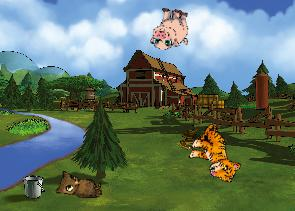owl: (55, 169, 102, 198)
pig: (148, 5, 192, 52)
tiger: (182, 120, 251, 186)
